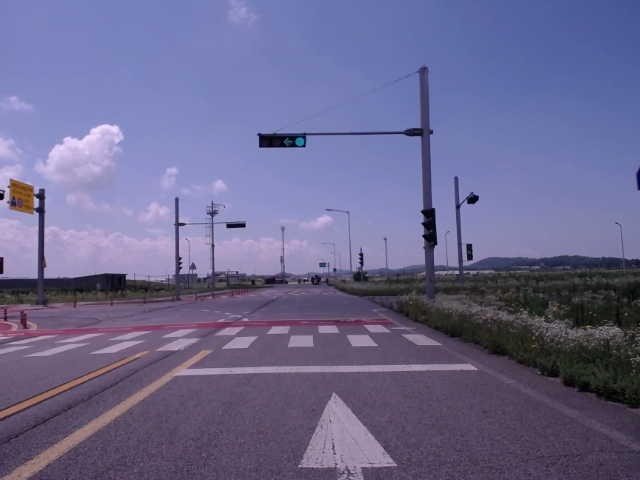all_green_4: (258, 134, 309, 148)
